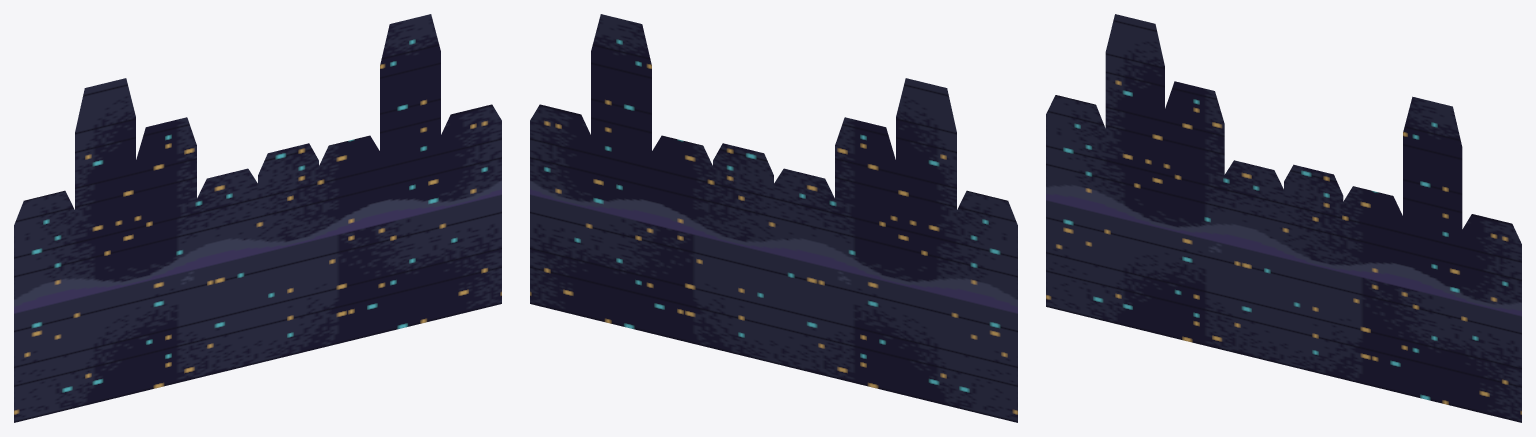
File: cysky.arch.glb
3 renders of one model, left to right at view 1: azimuth 30°, elevation 25°; view 2: azimuth 150°, elevation 25°; view 3: azimuth 330°, elevation 25°, orthographic. The views are drawn at different scales.
Parts seen in each view (by area): view 1: kit_card_skyline; view 2: kit_card_skyline; view 3: kit_card_skyline.
Boxes of the visible parts, <box> form: kit_card_skyline: <box>14,14,501,422</box>; kit_card_skyline: <box>530,14,1017,422</box>; kit_card_skyline: <box>1046,14,1521,422</box>.
Bounding box in the file's own units: 56 × 34.84 × 0.
Materials: 1 (1 with a texture image).
